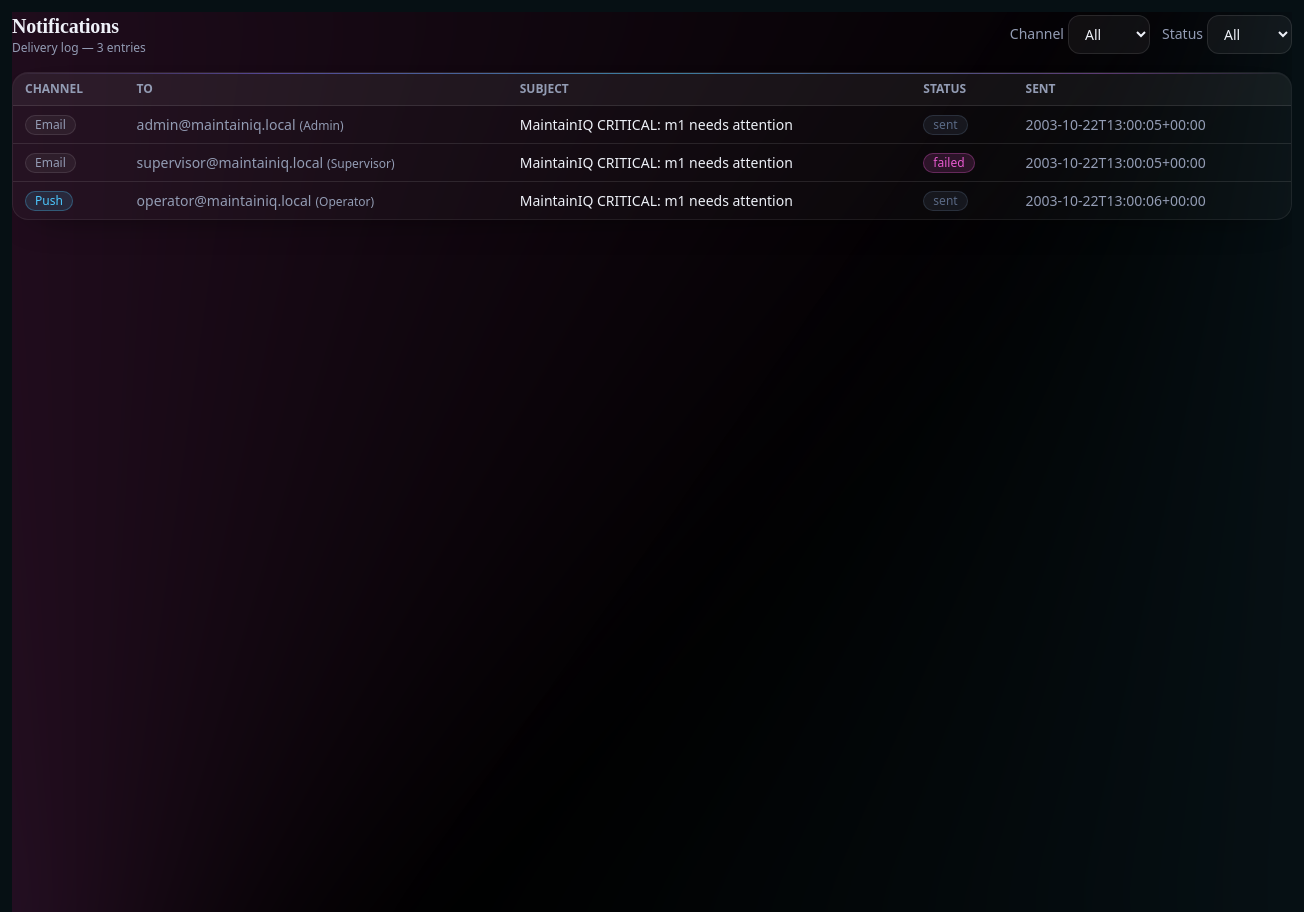
Test case: NotificationsPage › expands a row to show the notification body and collapses it again
Check: the text "health state: critical" is not shown
Click the text "admin@maintainiq.local": x=652, y=124 top-left (13, 106), bottom-right (1291, 144)
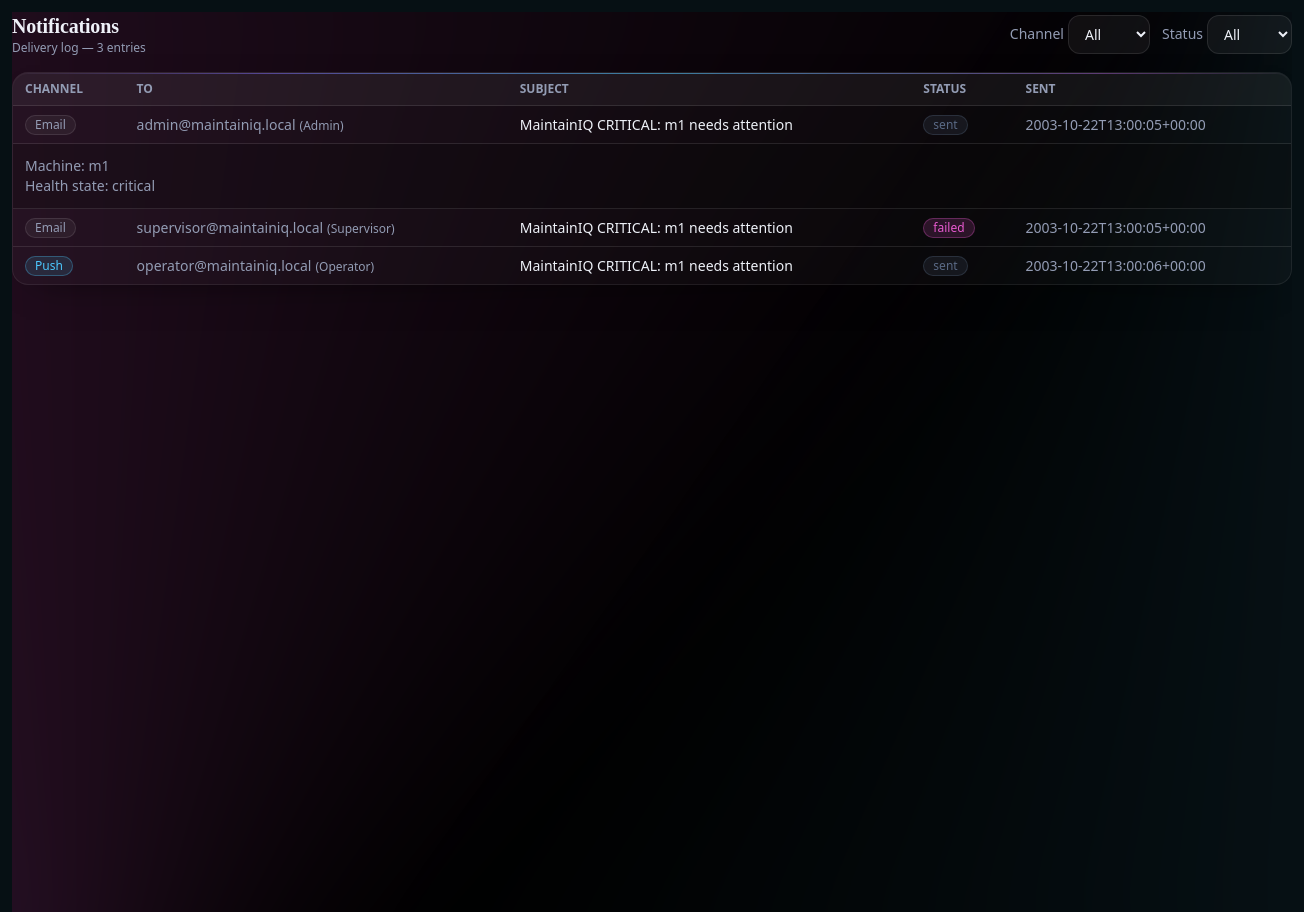
Check: the text "Machine: m1 Health state: critical" is shown, box top-left (13, 144), bottom-right (1291, 208)
Click the text "admin@maintainiq.local": x=652, y=124 top-left (13, 106), bottom-right (1291, 144)
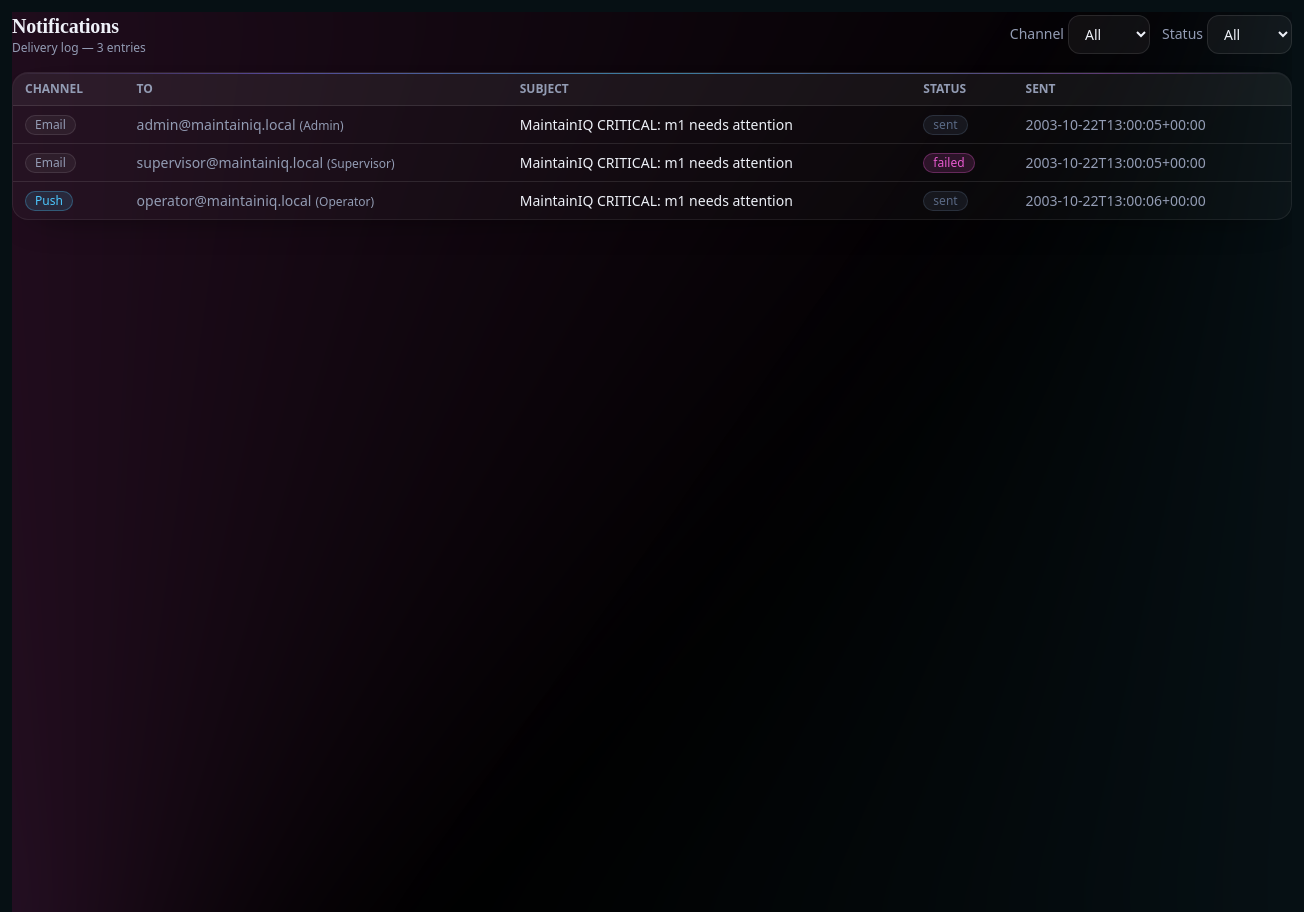
Check: the text "Health state: critical" is gone
